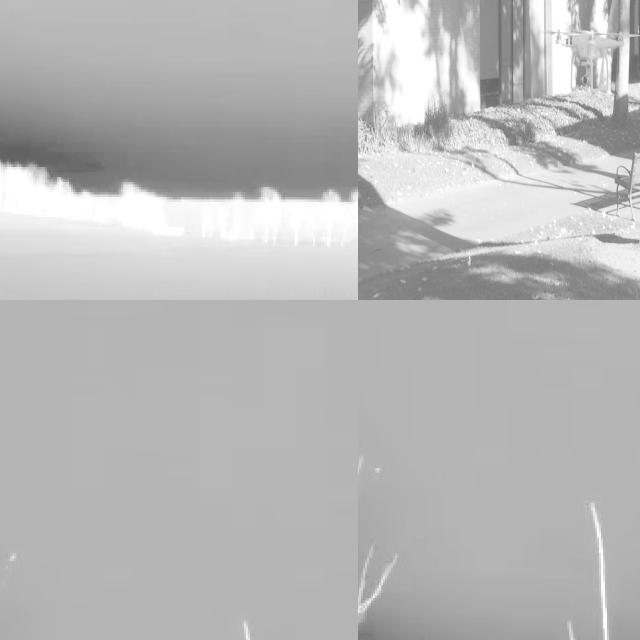0: (2, 544, 24, 574), (373, 461, 391, 483)
drone: (556, 23, 626, 90)
